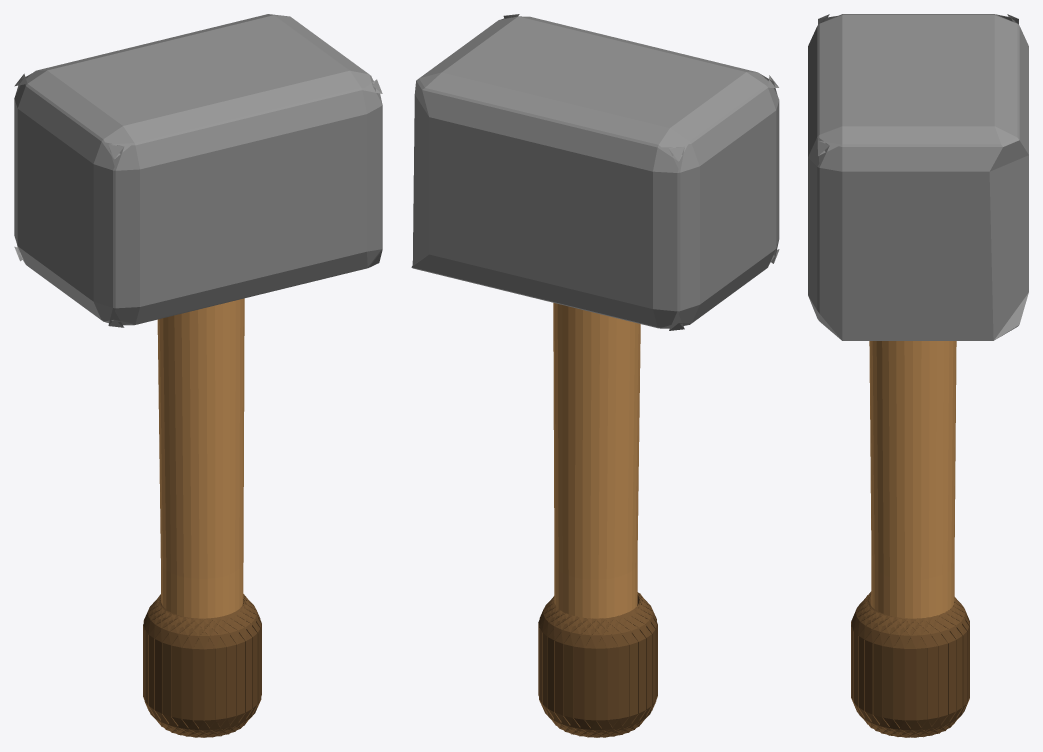
File: Hammer.fbx
The picture shows the model from 3 angles, left to right: view 1: azimuth 30°, elevation 25°; view 2: azimuth 150°, elevation 25°; view 3: azimuth 270°, elevation 25°; orthographic projection.
Parts seen in each view (by area): view 1: Cube, Cylinder, Cylinder.001; view 2: Cube, Cylinder, Cylinder.001; view 3: Cube, Cylinder, Cylinder.001.
Part boxes in pixels (bbox=[...]): Cube: bbox=[14, 14, 382, 327]; Cylinder: bbox=[157, 298, 244, 618]; Cylinder.001: bbox=[143, 594, 261, 737]; Cube: bbox=[411, 14, 779, 330]; Cylinder: bbox=[553, 303, 640, 618]; Cylinder.001: bbox=[538, 592, 657, 737]; Cube: bbox=[808, 14, 1028, 340]; Cylinder: bbox=[869, 341, 956, 618]; Cylinder.001: bbox=[851, 591, 969, 737].
Size of the model in its own units: 300 by 647 by 200.
